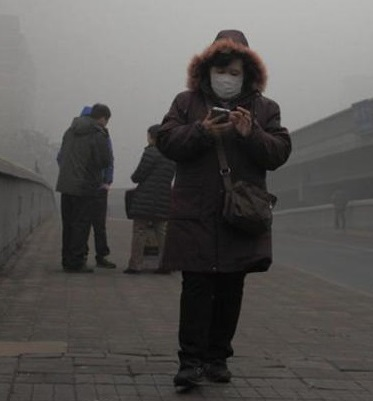person: (160, 25, 300, 392), (54, 101, 125, 272), (125, 120, 182, 278), (79, 106, 118, 269), (155, 187, 187, 274), (328, 181, 356, 231)
